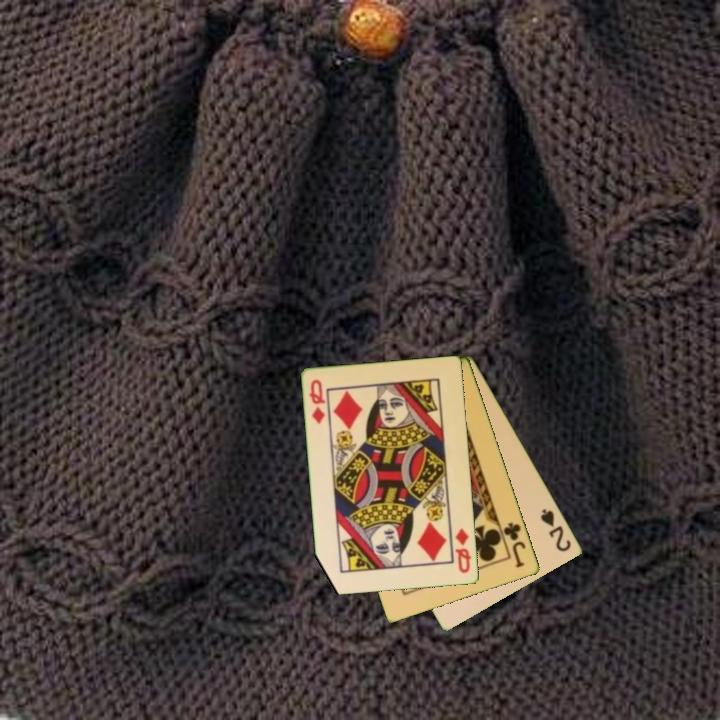2s: (537, 505, 575, 555)
Jc: (500, 519, 529, 571)
Qd: (452, 525, 474, 576), (306, 376, 328, 427)
